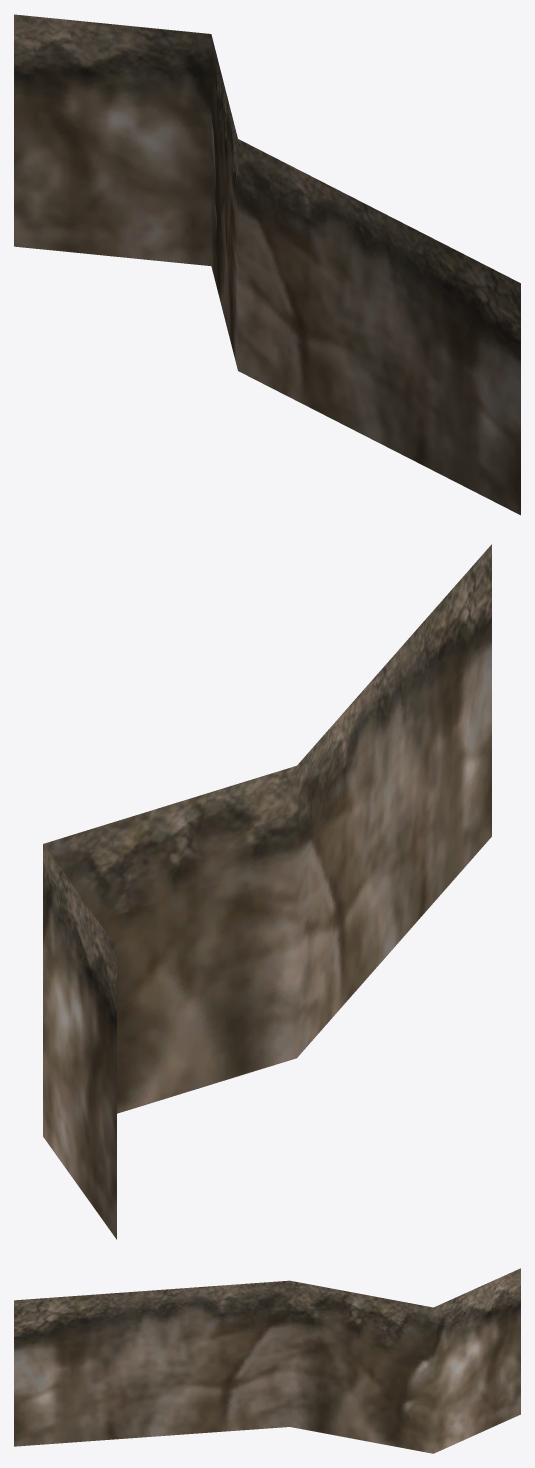
Rendered from OVERHILL_A_01_LINE39.fbx.
3 renders of one model, top to bottom at view 1: azimuth 30°, elevation 25°; view 2: azimuth 150°, elevation 25°; view 3: azimuth 270°, elevation 25°, orthographic. The views are drawn at different scales.
Visible parts, largest first — view 1: OVERHILL_A_01_LINE39; view 2: OVERHILL_A_01_LINE39; view 3: OVERHILL_A_01_LINE39.
Boxes of the visible parts, <box> form: OVERHILL_A_01_LINE39: <box>14,14,520,515</box>; OVERHILL_A_01_LINE39: <box>43,544,491,1239</box>; OVERHILL_A_01_LINE39: <box>14,1268,520,1453</box>.
Size of the model in its own units: 2481 by 4300 by 13504.
1 material, 1 textured.
